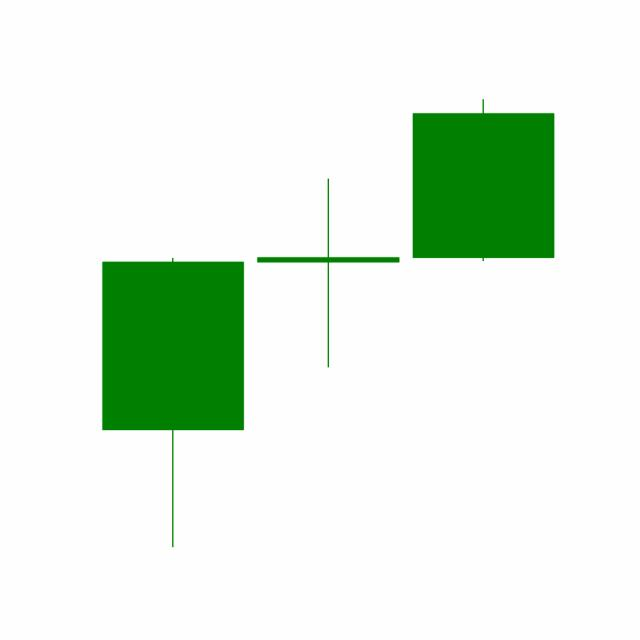Marubozu: (405, 97, 561, 263)
